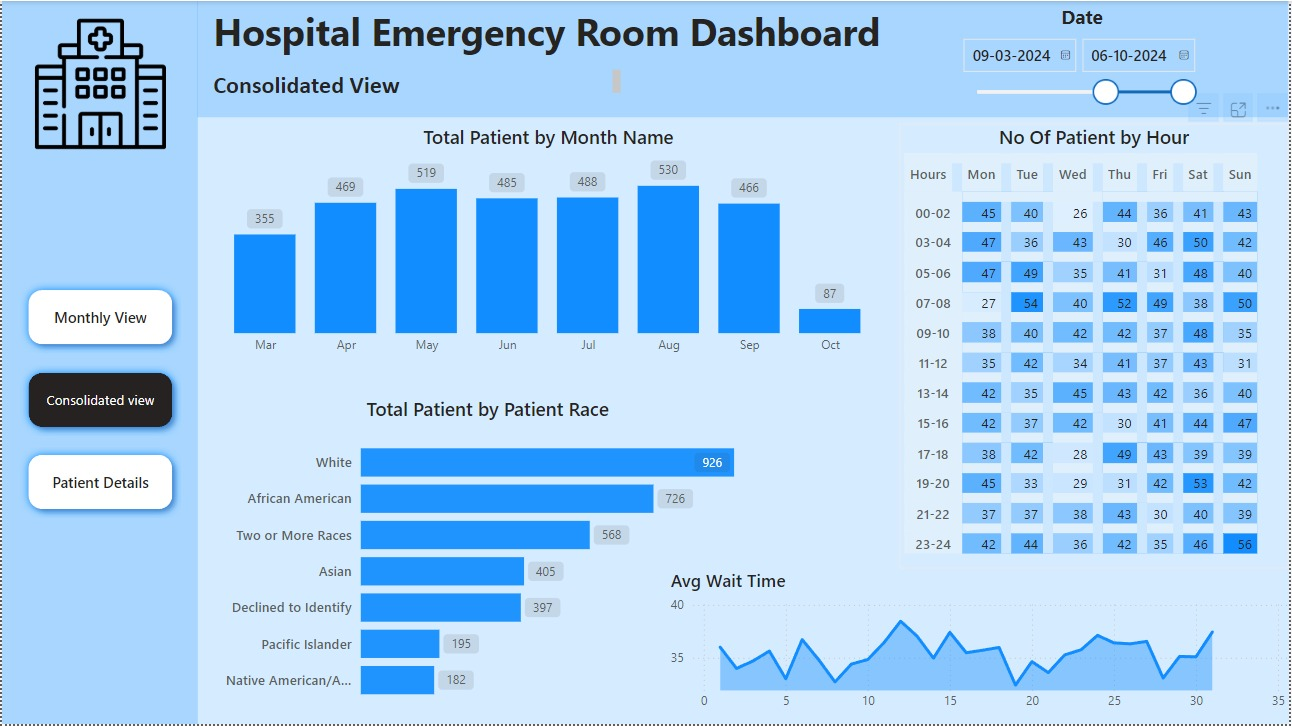

Layout of this report page (visuals, bound fields, positions):
{"tool":"powerbi","page":{"name":"Consolidated view","canvas":[1280,720],"ordinal":1},"visuals":[{"type":"clusteredBarChart","title":"Total Patient by Patient Race","fields":{"Y":["Hospital ER_Data.Total_Patient"],"Category":["Hospital ER_Data.Patient Race"]},"box":[205.3,393.1,556,317.2],"z":0},{"type":"pivotTable","title":"No Of Patient by Hour","fields":{"Rows":["Hospital ER_Data.Wait Time Interval"],"Columns":["Date Table.Day Name"],"Values":["Hospital ER_Data.Total_Patient"]},"box":[893.2,121.9,386.9,442.8],"z":1000},{"type":"shape","box":[194.1,0,1086,115.7],"z":2000},{"type":"shape","box":[0,0,194.9,720.4],"z":3000},{"type":"textbox","box":[205.3,0,803.6,61],"z":4000},{"type":"textbox","box":[205.3,63.4,415.5,36.1],"z":5000},{"type":"clusteredColumnChart","title":"Total Patient by Month Name","fields":{"Category":["Date Table.Month_Name"],"Y":["Hospital ER_Data.Total_Patient"]},"box":[194.1,121.9,699.1,238.8],"z":6000},{"type":"image","box":[0,12.4,195.3,140.6],"z":7000},{"type":"areaChart","title":"Avg Wait Time ","fields":{"Category":["Date Table.Date.Variation.Date Hierarchy.Day"],"Y":["Avg(Hospital ER_Data.Patient Waittime)"]},"box":[660.5,564.8,619.5,145.5],"z":8000},{"type":"slicer","title":"Date","fields":{"Values":["Date Table.Date"]},"box":[944.2,2.5,261.2,115.7],"z":9000},{"type":"pageNavigator","box":[17.4,278.6,161.7,236.4],"z":10000}]}

Visuals, with their boxes in screenshot pixels (x1, y1, x2, y2), scaled from the page's 1280x720 canvas onto the 1292x726 screenshot:
"Total Patient by Patient Race" clusteredBarChart: Rect(207, 396, 768, 716)
"No Of Patient by Hour" pivotTable: Rect(902, 123, 1291, 569)
shape: Rect(196, 0, 1291, 117)
shape: Rect(0, 0, 197, 725)
textbox: Rect(207, 0, 1018, 62)
textbox: Rect(207, 64, 627, 100)
"Total Patient by Month Name" clusteredColumnChart: Rect(196, 123, 902, 364)
image: Rect(0, 13, 197, 154)
"Avg Wait Time " areaChart: Rect(667, 570, 1291, 716)
"Date" slicer: Rect(953, 3, 1217, 119)
pageNavigator: Rect(18, 281, 181, 519)
